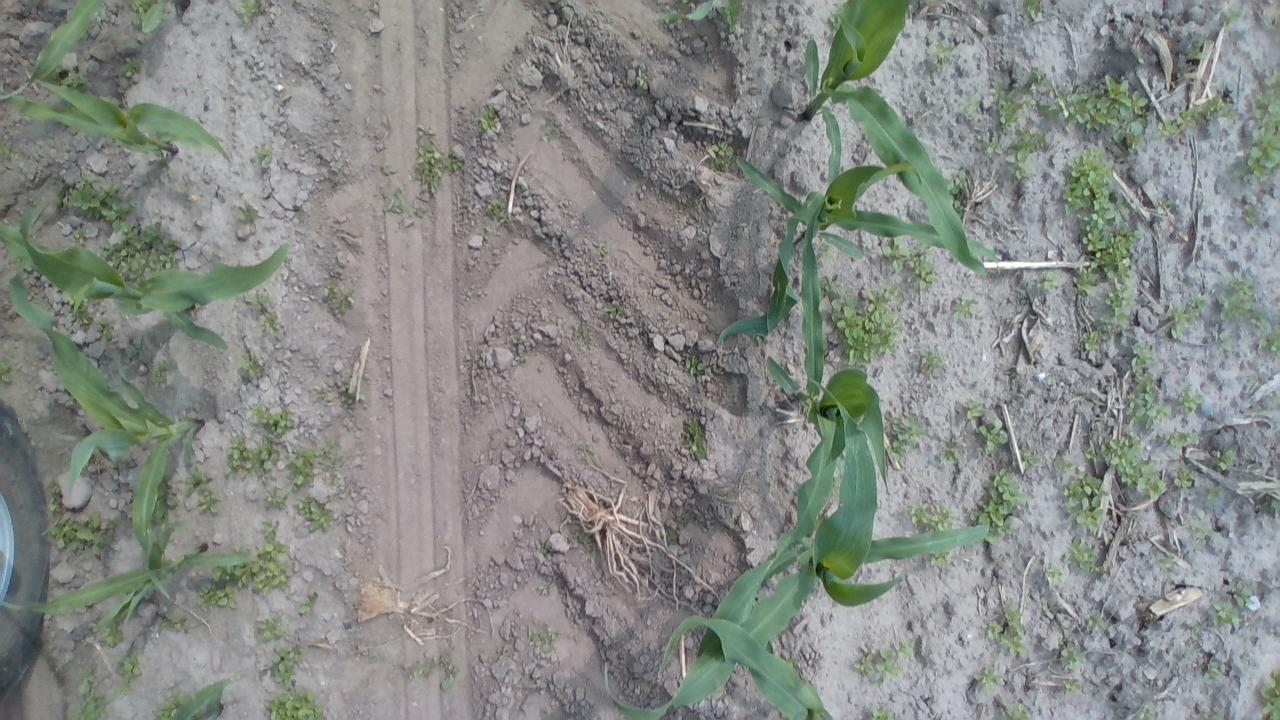Maize: (592, 376, 994, 720), (701, 202, 894, 647), (7, 268, 205, 608), (708, 137, 996, 352), (797, 0, 991, 272), (0, 208, 293, 352), (0, 508, 260, 632), (0, 65, 233, 166), (654, 611, 834, 720), (0, 0, 107, 106), (174, 674, 238, 719), (653, 0, 717, 32), (140, 0, 193, 34)
Weeds: (1036, 74, 1202, 148), (828, 282, 902, 369), (1065, 148, 1130, 228), (1082, 432, 1162, 496), (1234, 69, 1280, 180), (42, 483, 114, 552), (104, 219, 179, 279), (972, 469, 1028, 540), (1083, 221, 1139, 281), (286, 439, 349, 490), (1219, 270, 1273, 327), (51, 178, 126, 219), (852, 639, 915, 684), (1063, 469, 1108, 532), (414, 140, 464, 196), (1126, 373, 1170, 432), (253, 527, 291, 595), (962, 398, 1007, 452), (1006, 124, 1048, 179), (226, 434, 278, 478), (986, 604, 1028, 658), (882, 240, 932, 280), (75, 666, 112, 720), (265, 689, 325, 720), (1160, 296, 1202, 339), (889, 412, 925, 462), (993, 86, 1032, 132), (212, 546, 252, 588), (250, 402, 295, 439), (184, 469, 220, 512), (1065, 535, 1103, 574), (906, 501, 958, 529), (1104, 280, 1136, 325), (417, 654, 458, 686), (269, 644, 300, 686), (296, 496, 333, 530), (198, 582, 241, 610), (118, 650, 144, 694), (1258, 671, 1280, 720), (323, 276, 352, 312), (946, 168, 970, 210), (1204, 92, 1236, 122), (1176, 384, 1206, 416), (683, 418, 707, 458), (156, 689, 186, 720), (154, 478, 176, 520), (1059, 644, 1088, 674), (1072, 264, 1100, 295), (718, 0, 745, 32), (706, 140, 734, 170), (1212, 601, 1244, 627), (238, 352, 268, 379), (233, 204, 260, 234), (129, 0, 152, 33), (928, 41, 954, 69), (66, 302, 92, 330), (1189, 518, 1218, 543), (1210, 326, 1234, 356), (570, 321, 596, 348), (340, 376, 365, 404), (1171, 463, 1196, 491), (1164, 428, 1202, 446), (258, 616, 286, 640), (1258, 330, 1280, 360), (822, 274, 852, 296), (979, 134, 1004, 160), (1055, 450, 1079, 477), (538, 575, 562, 602), (236, 0, 264, 23), (99, 624, 126, 647), (1000, 701, 1032, 720), (1129, 344, 1154, 368), (535, 626, 558, 652), (478, 108, 501, 134), (939, 437, 962, 463), (1028, 64, 1050, 91), (864, 706, 906, 720), (255, 143, 275, 172), (952, 295, 976, 319), (1038, 268, 1062, 292), (976, 666, 1002, 688), (917, 348, 943, 370), (1082, 328, 1107, 350), (1019, 0, 1045, 21), (1082, 611, 1106, 633), (1234, 582, 1254, 608), (574, 532, 596, 555), (68, 221, 88, 246), (1215, 445, 1235, 470), (95, 320, 117, 342), (63, 68, 85, 90), (1186, 38, 1206, 62), (1242, 202, 1260, 228), (485, 200, 506, 222), (1155, 552, 1178, 572), (248, 292, 270, 312), (1136, 700, 1158, 720), (1220, 8, 1243, 27), (386, 190, 404, 214), (408, 202, 432, 220), (121, 56, 141, 77), (1018, 448, 1040, 467), (260, 311, 279, 333), (265, 490, 288, 508), (167, 614, 190, 632), (928, 550, 951, 568), (1042, 564, 1062, 583), (150, 363, 169, 382), (962, 96, 981, 115), (1204, 482, 1222, 502), (684, 356, 702, 375), (604, 300, 622, 319), (299, 594, 316, 614), (0, 359, 13, 385), (540, 125, 562, 140), (664, 525, 680, 544), (678, 510, 699, 524), (1202, 662, 1220, 678), (1061, 678, 1083, 691), (310, 384, 327, 400), (512, 332, 530, 346), (829, 14, 844, 30), (594, 241, 610, 256), (1263, 496, 1280, 510), (1158, 196, 1172, 211), (1202, 712, 1228, 720), (540, 537, 552, 554), (636, 67, 646, 87), (516, 350, 532, 362), (752, 335, 766, 344)
